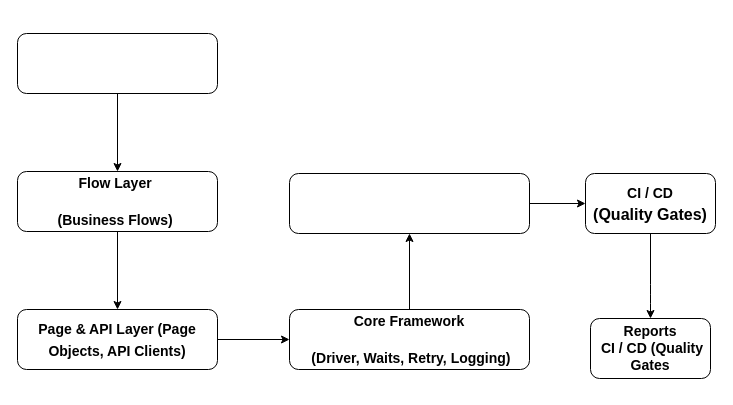
Some shapes in this 733 by 405 pixel diagram are drawn without their labels. The centre of each missing label's shape, as x and y in pixels:
"Test Data & Config (Roles, Financial Data)" belongs at point 409,203.
"Test Layer (UI, API, Security Tests)" belongs at point 117,63.
